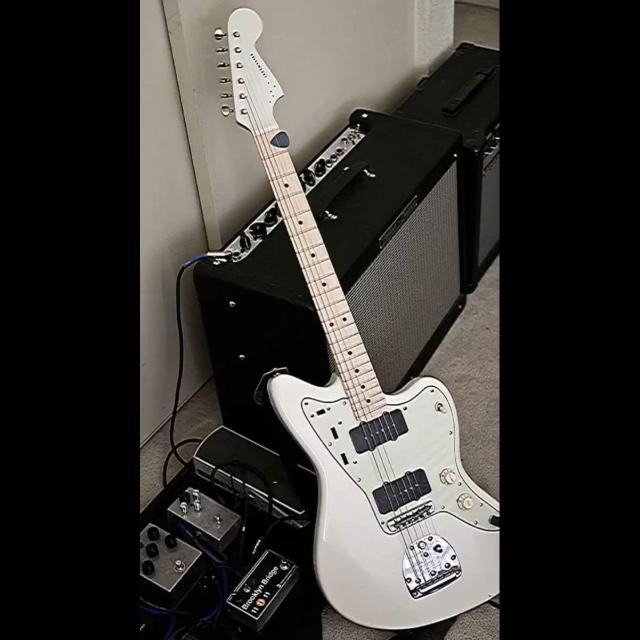Electric-Guitar: (168, 7, 500, 631)
